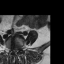CCS_normal: (14, 47, 16, 57)
LFS_severe_stenosis: (19, 46, 21, 53)
LLS_normal: (16, 47, 19, 54)
RFS_severe_stenosis: (10, 46, 12, 52)
RLS_stenosis: (12, 47, 14, 53)
